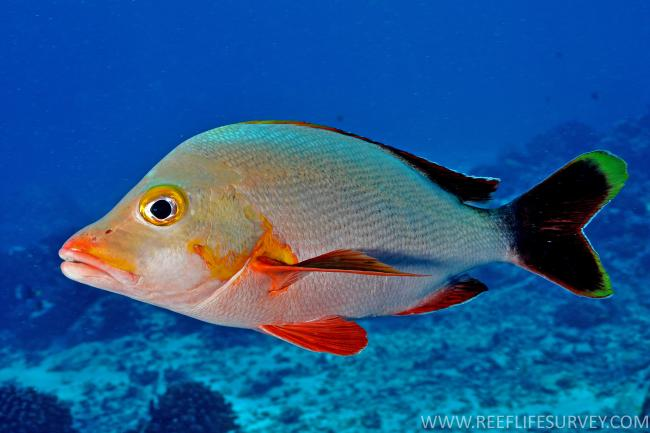fish: (58, 119, 629, 357)
